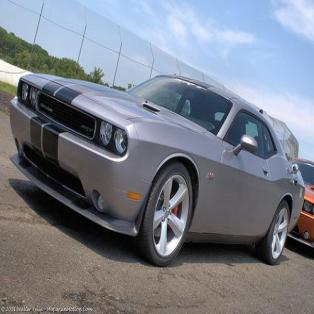Auto: (8, 72, 307, 270)
